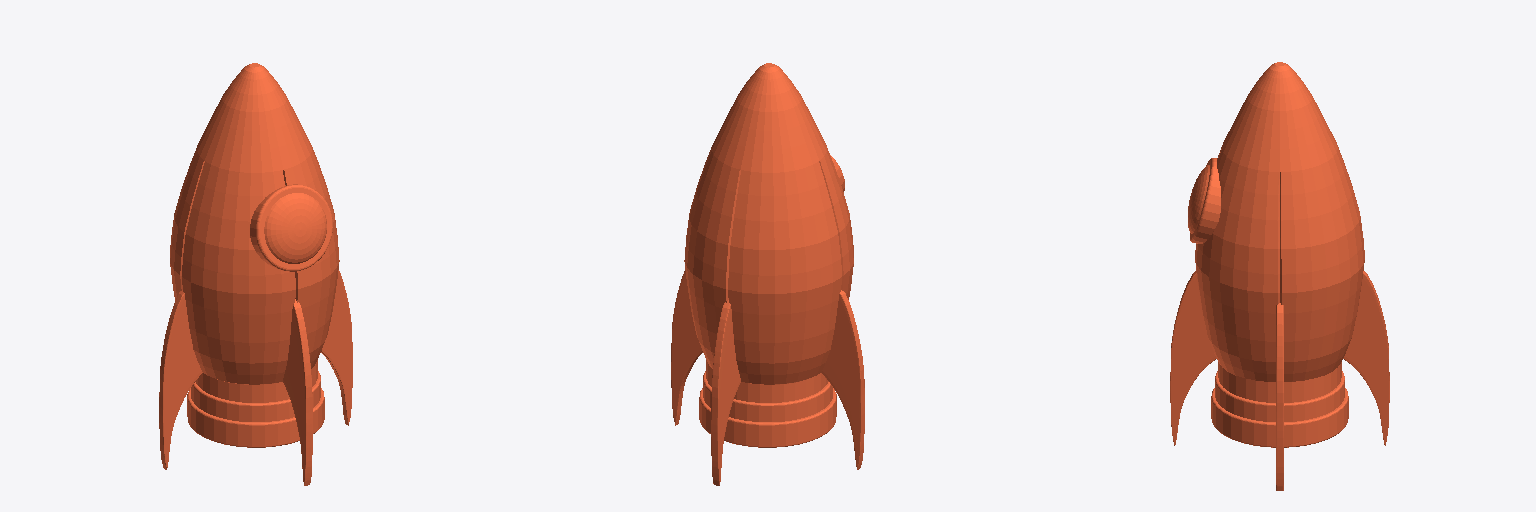
Rendered from rocket.obj.
3 views of the same model, side by side, from view 1: azimuth 30°, elevation 25°; view 2: azimuth 150°, elevation 25°; view 3: azimuth 270°, elevation 25° (orthographic).
Visible parts, largest first — view 1: Body_Cylinder.002, Wings_Cube.003, Tip_Cylinder.003, Engine_Cylinder.006, Window.001_Cylinder.008, Window_Cylinder.007; view 2: Body_Cylinder.002, Wings_Cube.003, Tip_Cylinder.003, Engine_Cylinder.006; view 3: Body_Cylinder.002, Wings_Cube.003, Tip_Cylinder.003, Engine_Cylinder.006, Window_Cylinder.007, Window.001_Cylinder.008.
Part boxes in pixels (x1,y1,x2,y2): Body_Cylinder.002: (170,147,339,384); Wings_Cube.003: (159,270,352,485); Tip_Cylinder.003: (197,63,311,172); Engine_Cylinder.006: (187,360,324,447); Window.001_Cylinder.008: (264,193,326,263); Window_Cylinder.007: (250,184,332,271); Body_Cylinder.002: (684,147,853,384); Wings_Cube.003: (671,270,864,485); Tip_Cylinder.003: (712,63,826,172); Engine_Cylinder.006: (699,360,836,447); Body_Cylinder.002: (1195,145,1364,381); Wings_Cube.003: (1170,271,1389,490); Tip_Cylinder.003: (1222,62,1337,171); Engine_Cylinder.006: (1211,362,1348,447); Window_Cylinder.007: (1190,158,1220,243); Window.001_Cylinder.008: (1188,165,1209,233).
Bounding box in the file's own units: 1.63 × 3.12 × 1.63.